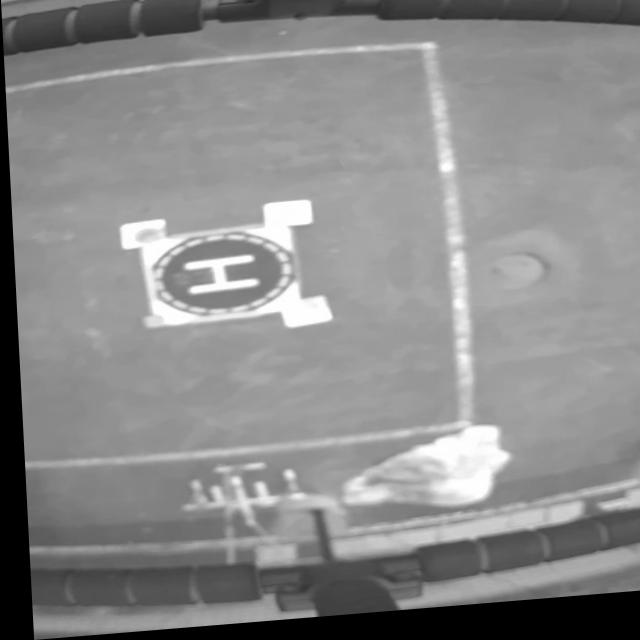Helipad: (177, 258, 254, 298)
